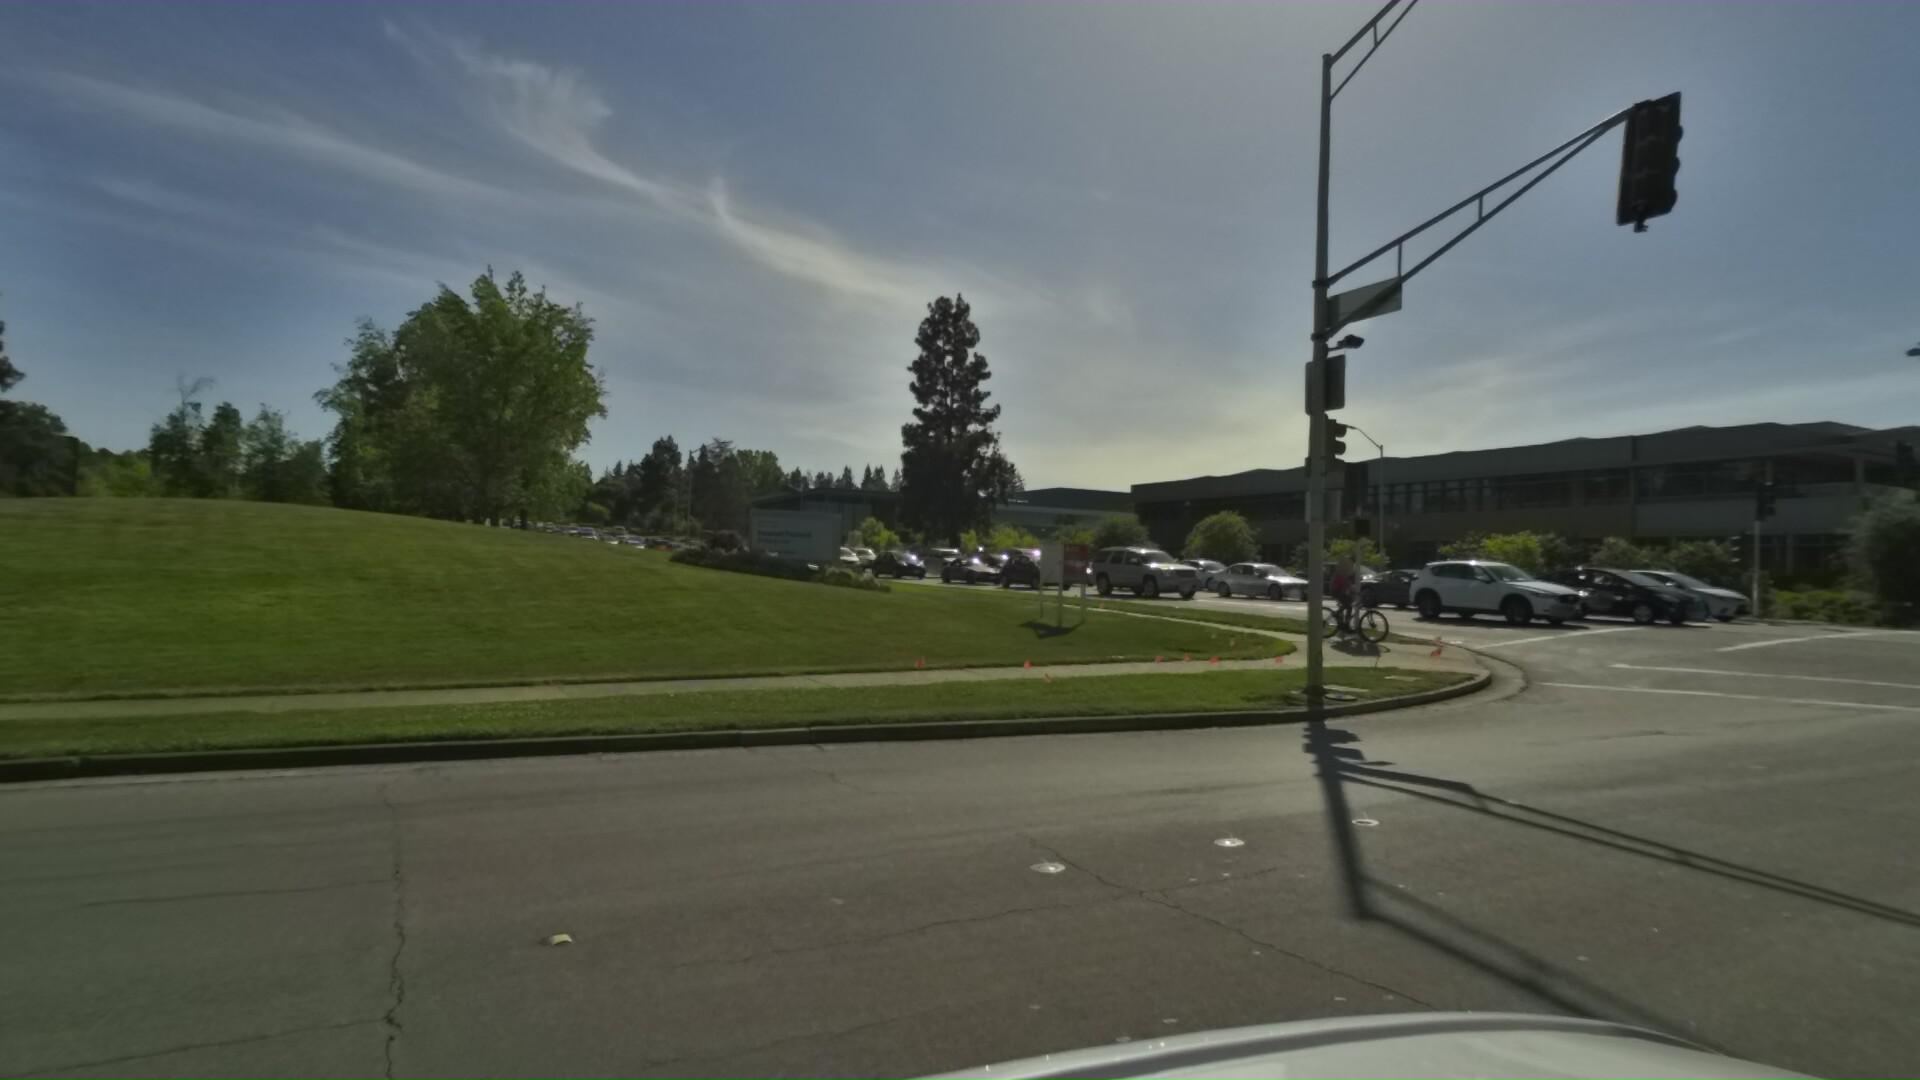bicycle: (1288, 555, 1393, 650)
car: (1385, 553, 1590, 633), (1513, 558, 1710, 626), (1565, 564, 1760, 624), (1328, 562, 1490, 621), (1069, 541, 1204, 605), (1197, 558, 1320, 609), (1153, 555, 1251, 593), (988, 550, 1076, 592), (1021, 553, 1098, 591), (930, 553, 1005, 587), (905, 545, 971, 578), (799, 541, 860, 575), (862, 549, 924, 580), (833, 545, 884, 572)
